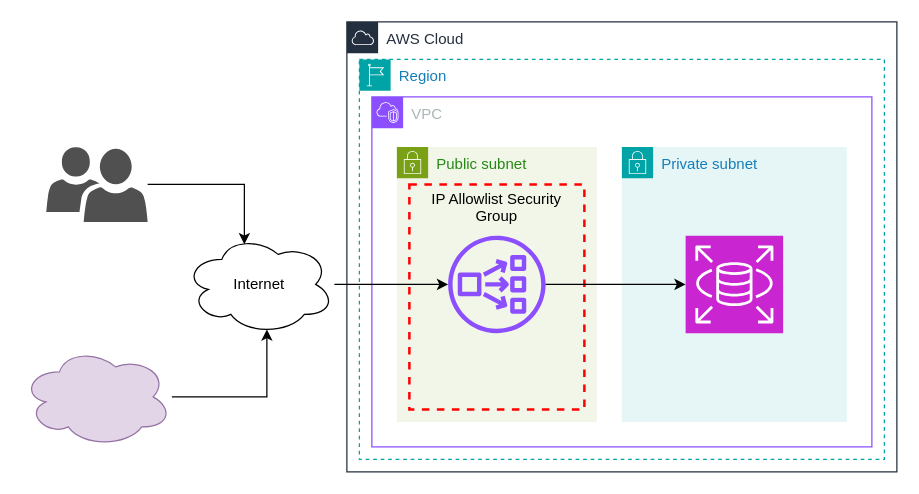
Some shapes in this 919 by 494 pixel diagram are drawn without their labels. The shapes that lost their labels are listed below. From the top down, each one's centre as x and y in pixels, then its label:
At pixel 96 183: "Developers".
At pixel 496 283: "NLB".
At pixel 733 283: "RDS".
At pixel 96 396: "Other Cloud Providers".
